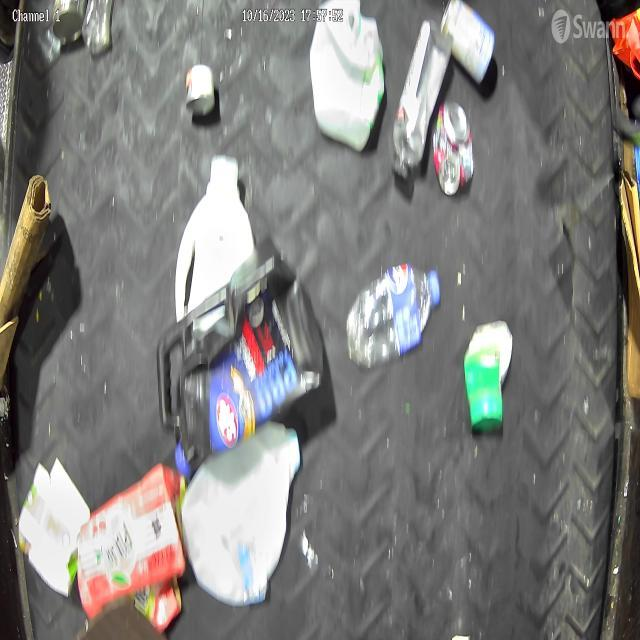can: (463, 318, 513, 436), (440, 0, 496, 87), (434, 100, 474, 196), (185, 64, 215, 118), (52, 0, 87, 44)
milk_jug: (181, 418, 301, 606), (175, 156, 255, 330), (310, 0, 384, 151)
non_white_jug: (156, 256, 324, 478), (77, 462, 186, 634)
plastic_bottle: (346, 263, 442, 372), (391, 18, 452, 183)
